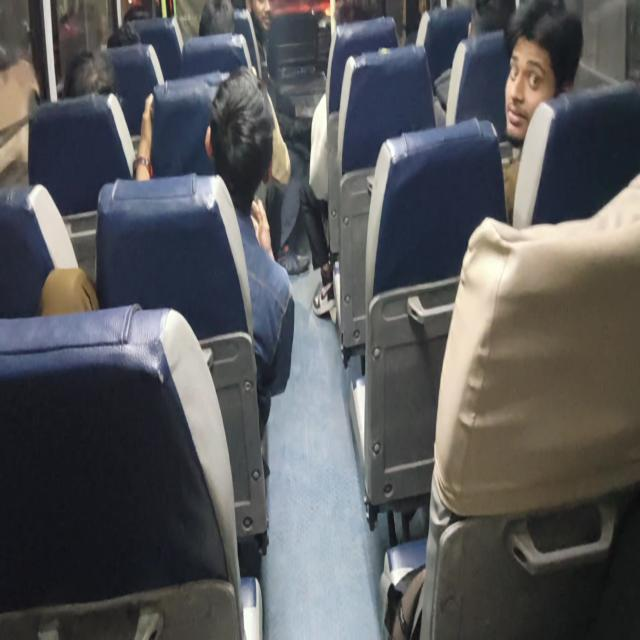person: (133, 65, 295, 440), (198, 0, 309, 275), (501, 0, 584, 222)
